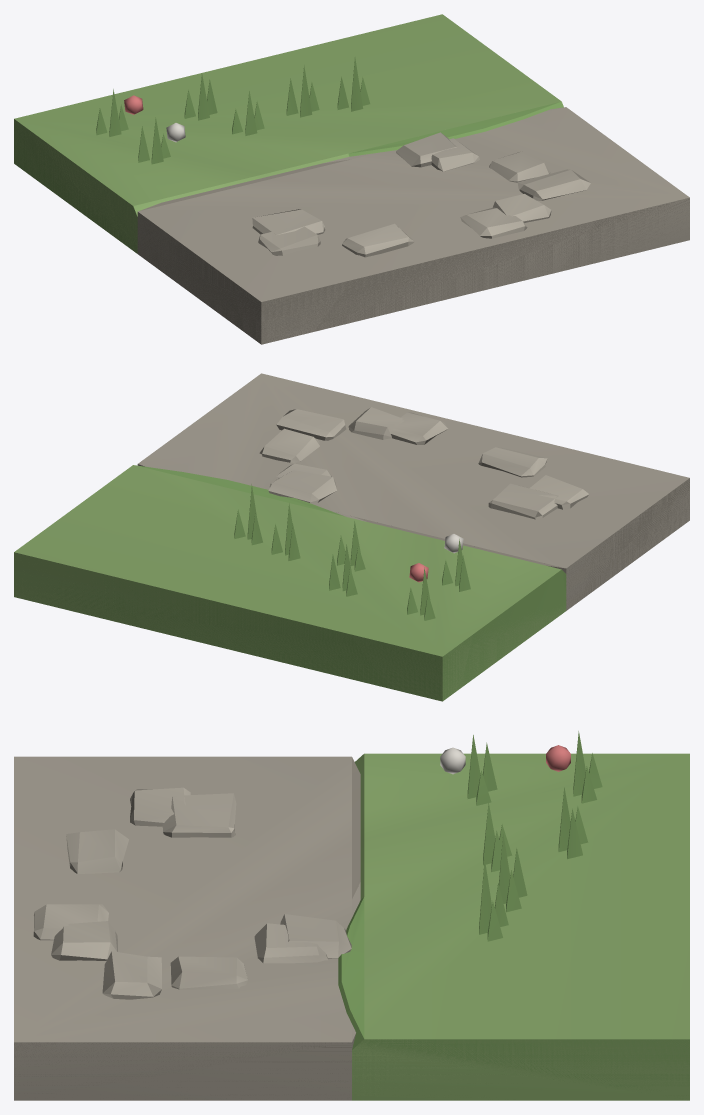
Rendered from terrain.cobble.edge.glb.
The picture shows the model from 3 angles, top to bottom: view 1: azimuth 30°, elevation 25°; view 2: azimuth 150°, elevation 25°; view 3: azimuth 270°, elevation 25°; orthographic projection. The views are drawn at different scales.
Visible parts, largest first — view 1: terrain.cobble.edge.v0.mesh, terrain.cobble.edge.v1.mesh, terrain.cobble.edge.v2.mesh; view 2: terrain.cobble.edge.v0.mesh, terrain.cobble.edge.v1.mesh, terrain.cobble.edge.v2.mesh; view 3: terrain.cobble.edge.v0.mesh, terrain.cobble.edge.v1.mesh, terrain.cobble.edge.v2.mesh.
Part boxes in pixels (left/top/right/bottom): terrain.cobble.edge.v0.mesh: left=14, top=14, right=689, bottom=344; terrain.cobble.edge.v1.mesh: left=14, top=65, right=689, bottom=344; terrain.cobble.edge.v2.mesh: left=14, top=57, right=673, bottom=340; terrain.cobble.edge.v0.mesh: left=14, top=373, right=689, bottom=701; terrain.cobble.edge.v1.mesh: left=22, top=407, right=689, bottom=701; terrain.cobble.edge.v2.mesh: left=14, top=412, right=689, bottom=699; terrain.cobble.edge.v0.mesh: left=14, top=753, right=689, bottom=1100; terrain.cobble.edge.v1.mesh: left=14, top=757, right=689, bottom=1100; terrain.cobble.edge.v2.mesh: left=33, top=731, right=602, bottom=1088.
Bounding box in the file's own units: 1 × 0.219 × 1.
